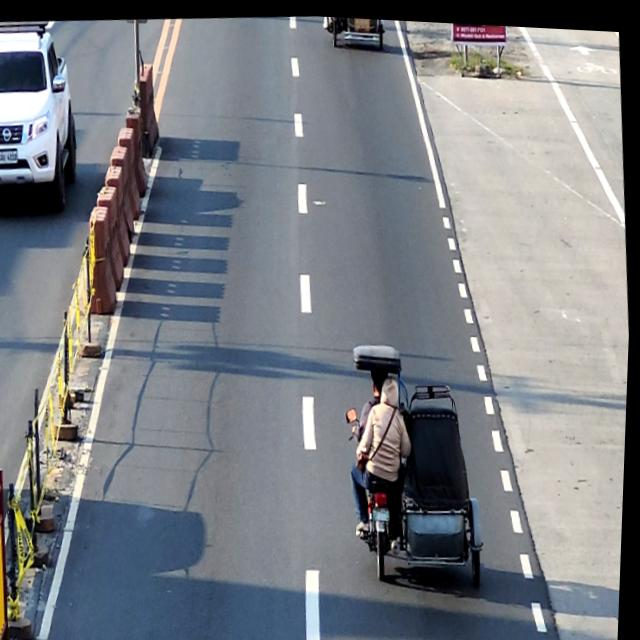Car: (0, 18, 85, 213)
License-Plate: (0, 149, 20, 164), (376, 501, 393, 518)
Tricycle: (338, 332, 495, 590), (324, 13, 385, 46)
